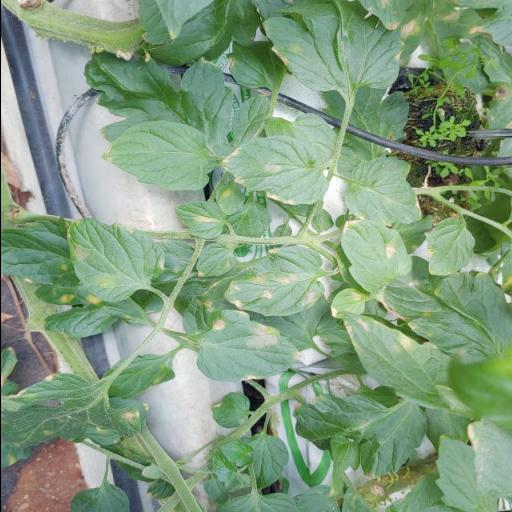Leaf Mold: (342, 312, 472, 420), (65, 218, 164, 304), (218, 134, 329, 206), (194, 310, 300, 382), (221, 246, 325, 318), (339, 220, 413, 296), (342, 155, 422, 224)
